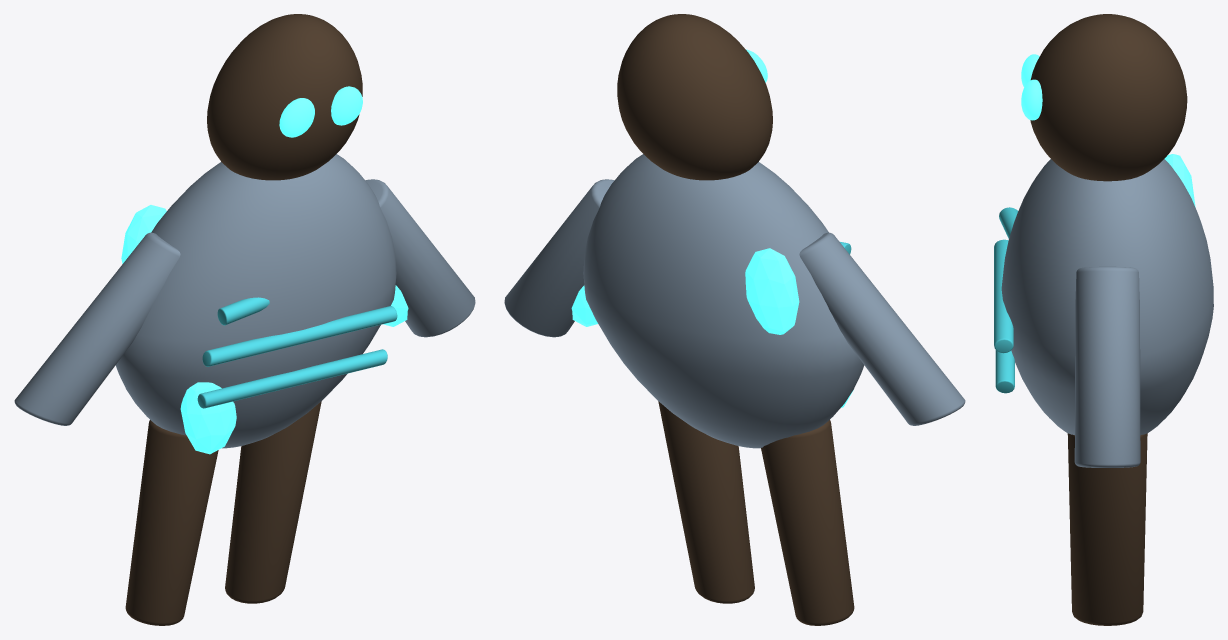
File: undead_v7.glb
3 renders of one model, left to right at view 1: azimuth 30°, elevation 25°; view 2: azimuth 150°, elevation 25°; view 3: azimuth 270°, elevation 25°, orthographic. The views are drawn at different scales.
Visible parts, largest first — view 1: BODY_PRIMARY, HEAD_SECONDARY, LEG_L_SECONDARY, ARM_L_PRIMARY, LEG_R_SECONDARY, ARM_R_PRIMARY, RIB_ACCENT.001, RIB_ACCENT, ORBIT_SHARD_EMISSIVE.002, ORBIT_SHARD_EMISSIVE.001, EYE_EMISSIVE, EYE_EMISSIVE.001 (+1 smaller); view 2: BODY_PRIMARY, HEAD_SECONDARY, LEG_L_SECONDARY, ARM_L_PRIMARY, LEG_R_SECONDARY, ARM_R_PRIMARY, ORBIT_SHARD_EMISSIVE.001; view 3: BODY_PRIMARY, HEAD_SECONDARY, ARM_R_PRIMARY, LEG_R_SECONDARY, RIB_ACCENT.001, RIB_ACCENT, EYE_EMISSIVE.001, ORBIT_SHARD_EMISSIVE.001, RIB_ACCENT.002, EYE_EMISSIVE.
Boxes of the visible parts, left/top/right/bottom form: BODY_PRIMARY: left=115, top=154, right=396, bottom=448; HEAD_SECONDARY: left=207, top=14, right=362, bottom=180; LEG_L_SECONDARY: left=125, top=420, right=218, bottom=625; ARM_L_PRIMARY: left=14, top=232, right=180, bottom=425; LEG_R_SECONDARY: left=225, top=401, right=321, bottom=603; ARM_R_PRIMARY: left=365, top=179, right=475, bottom=337; RIB_ACCENT.001: left=202, top=306, right=397, bottom=366; RIB_ACCENT: left=197, top=349, right=387, bottom=408; ORBIT_SHARD_EMISSIVE.002: left=180, top=382, right=236, bottom=454; ORBIT_SHARD_EMISSIVE.001: left=121, top=205, right=166, bottom=263; EYE_EMISSIVE: left=279, top=98, right=314, bottom=137; EYE_EMISSIVE.001: left=331, top=86, right=362, bottom=125; BODY_PRIMARY: left=583, top=154, right=864, bottom=448; HEAD_SECONDARY: left=617, top=14, right=772, bottom=180; LEG_L_SECONDARY: left=761, top=420, right=854, bottom=625; ARM_L_PRIMARY: left=799, top=232, right=965, bottom=425; LEG_R_SECONDARY: left=658, top=401, right=754, bottom=603; ARM_R_PRIMARY: left=504, top=179, right=614, bottom=337; ORBIT_SHARD_EMISSIVE.001: left=745, top=248, right=799, bottom=334; BODY_PRIMARY: left=1001, top=159, right=1213, bottom=435; HEAD_SECONDARY: left=1030, top=14, right=1187, bottom=181; ARM_R_PRIMARY: left=1074, top=266, right=1140, bottom=467; LEG_R_SECONDARY: left=1067, top=433, right=1147, bottom=625; RIB_ACCENT.001: left=994, top=239, right=1013, bottom=353; RIB_ACCENT: left=995, top=350, right=1014, bottom=393; EYE_EMISSIVE.001: left=1021, top=79, right=1042, bottom=120; ORBIT_SHARD_EMISSIVE.001: left=1164, top=154, right=1195, bottom=207; RIB_ACCENT.002: left=999, top=207, right=1018, bottom=238; EYE_EMISSIVE: left=1021, top=54, right=1039, bottom=87.
Size of the model in its own units: 2.3 by 2.73 by 0.8728.
